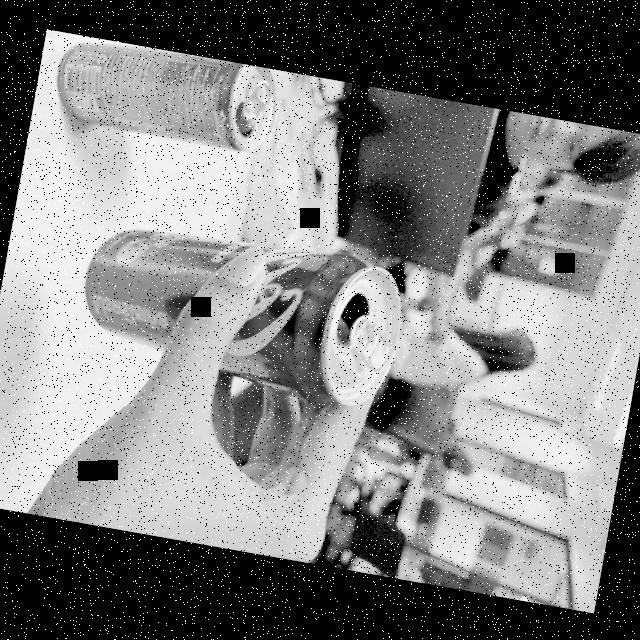can: (58, 196, 428, 422), (45, 30, 296, 164)
